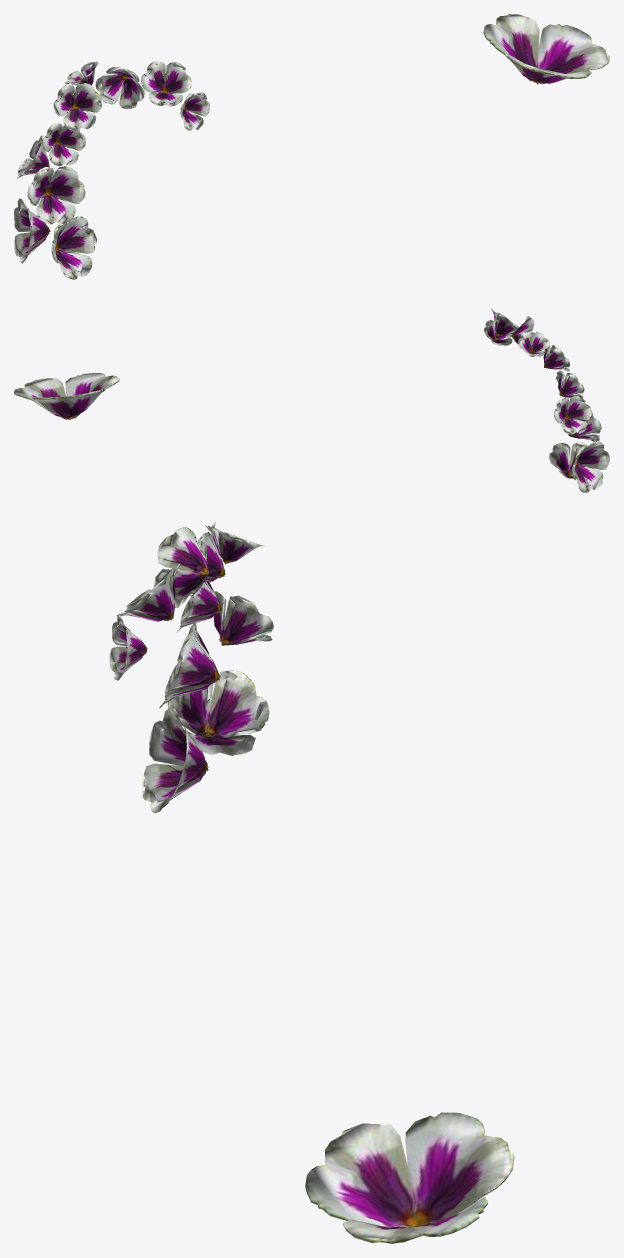
Rendered from wildflower_spray_pink.glb.
3 renders of one model, top to bottom at view 1: azimuth 30°, elevation 25°; view 2: azimuth 150°, elevation 25°; view 3: azimuth 270°, elevation 25°, orthographic. The views are drawn at different scales.
Parts seen in each view (by area): view 1: wildflower_spray_pink; view 2: wildflower_spray_pink; view 3: wildflower_spray_pink.
Boxes of the visible parts, bbox=[...] form: wildflower_spray_pink: bbox=[14, 14, 609, 279]; wildflower_spray_pink: bbox=[14, 308, 609, 492]; wildflower_spray_pink: bbox=[109, 521, 514, 1243].
Size of the model in its own units: 0.6445 by 0.1845 by 0.2146.
1 material, 1 textured.
